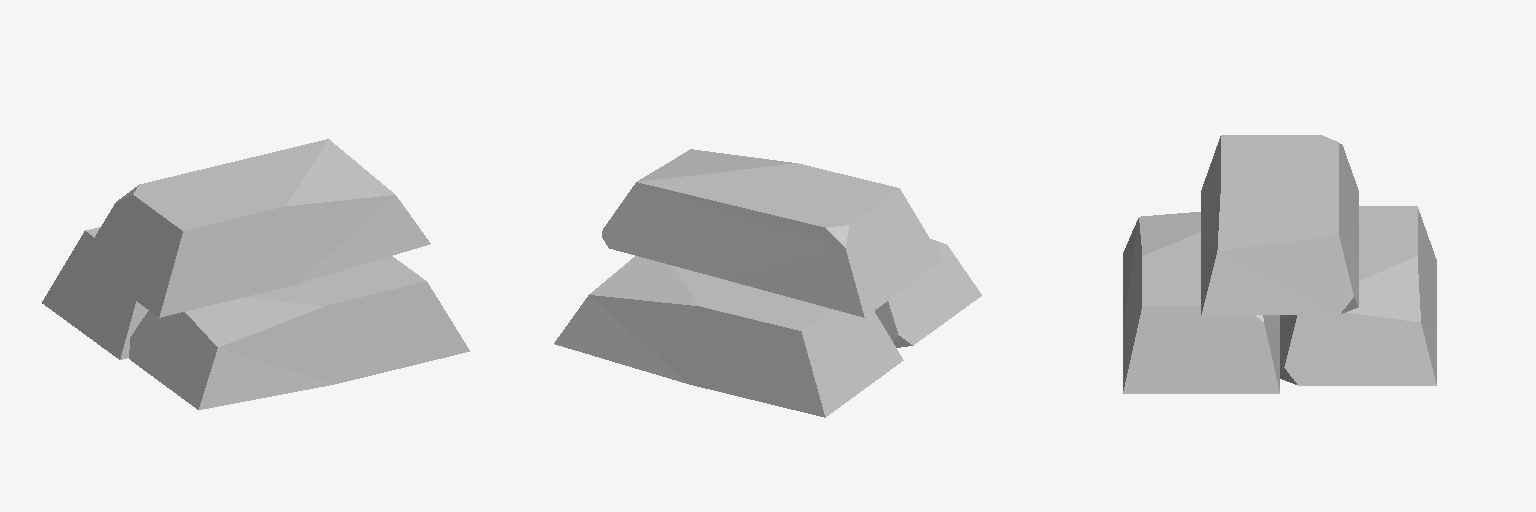
File: Gold-05.obj
3 views of the same model, side by side, from view 1: azimuth 30°, elevation 25°; view 2: azimuth 150°, elevation 25°; view 3: azimuth 270°, elevation 25° (orthographic).
Visible parts, largest first — view 1: Gold_05; view 2: Gold_05; view 3: Gold_05.
Boxes of the visible parts, box(x1,y1,x2,y2) form: Gold_05: box(42, 139, 469, 409); Gold_05: box(554, 149, 981, 417); Gold_05: box(1123, 135, 1436, 393).
Size of the model in its own units: 0.15 by 0.075 by 0.15.